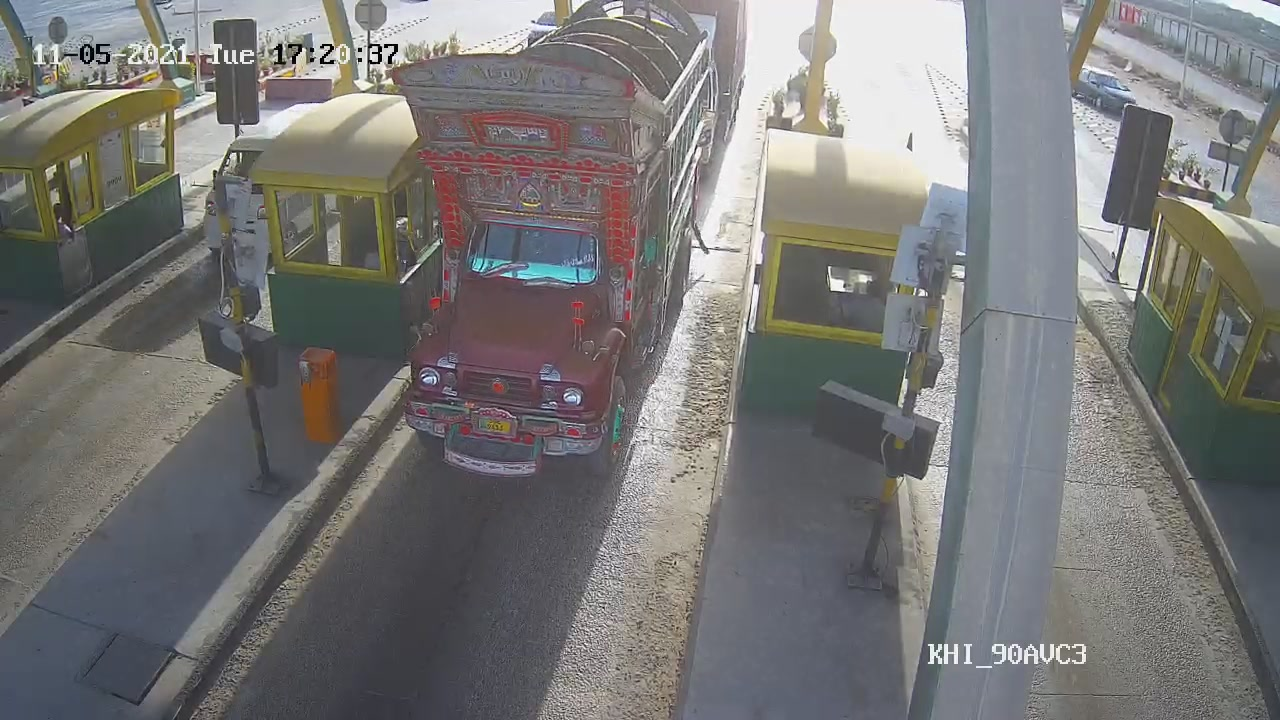F5: (387, 1, 703, 480)
